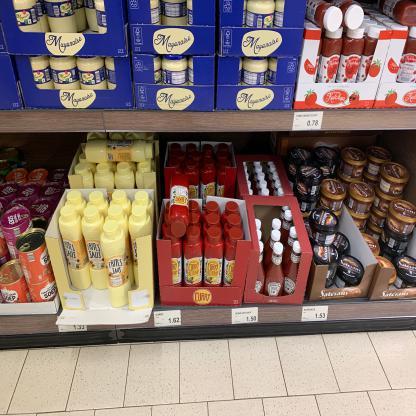prtg: (294, 112, 325, 131), (58, 317, 88, 333), (155, 311, 182, 328), (232, 308, 259, 325), (303, 307, 330, 322)
